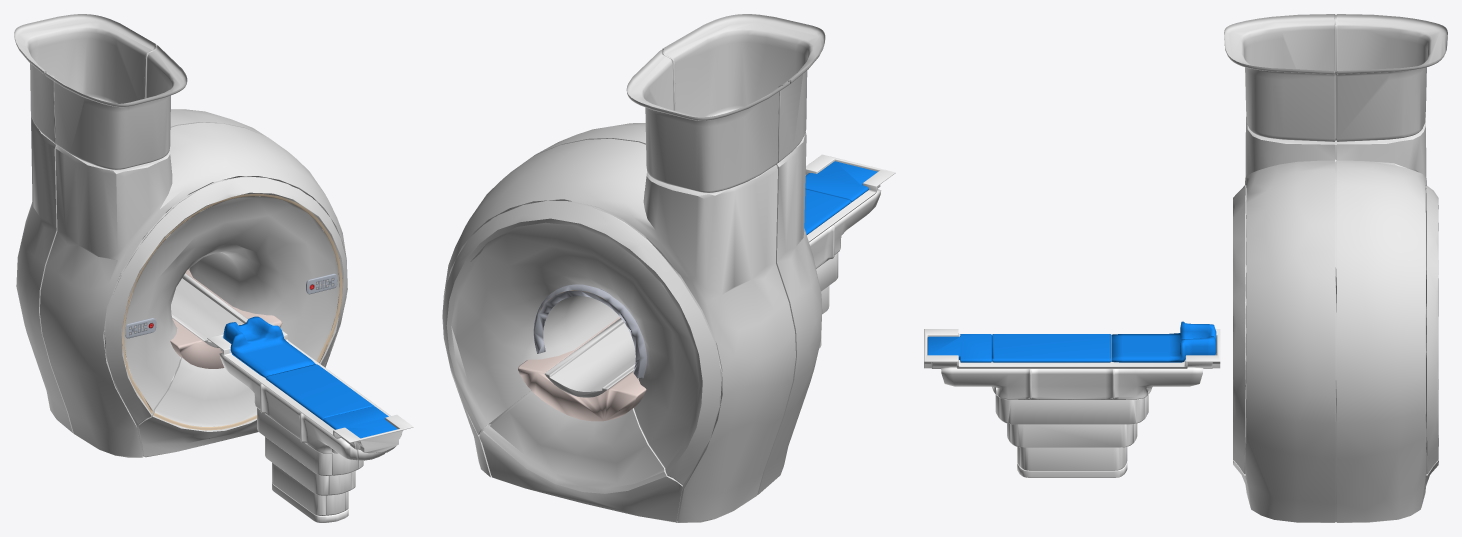
The picture shows the model from 3 angles, left to right: view 1: azimuth 30°, elevation 25°; view 2: azimuth 150°, elevation 25°; view 3: azimuth 270°, elevation 25°; orthographic projection. The views are drawn at different scales.
Parts seen in each view (by area): view 1: RX-102; view 2: RX-102; view 3: RX-102.
Boxes of the visible parts, bbox=[...] form: RX-102: bbox=[14, 14, 413, 522]; RX-102: bbox=[442, 14, 895, 522]; RX-102: bbox=[924, 14, 1447, 522].
Size of the model in its own units: 239 by 298 by 367.
7 materials, 3 textured.
